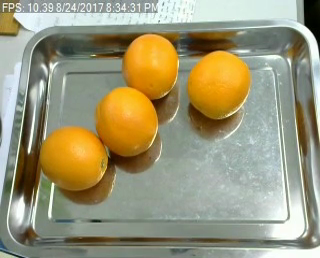Orange: (38, 125, 108, 190), (95, 86, 159, 157), (186, 49, 251, 117), (123, 31, 180, 98)
